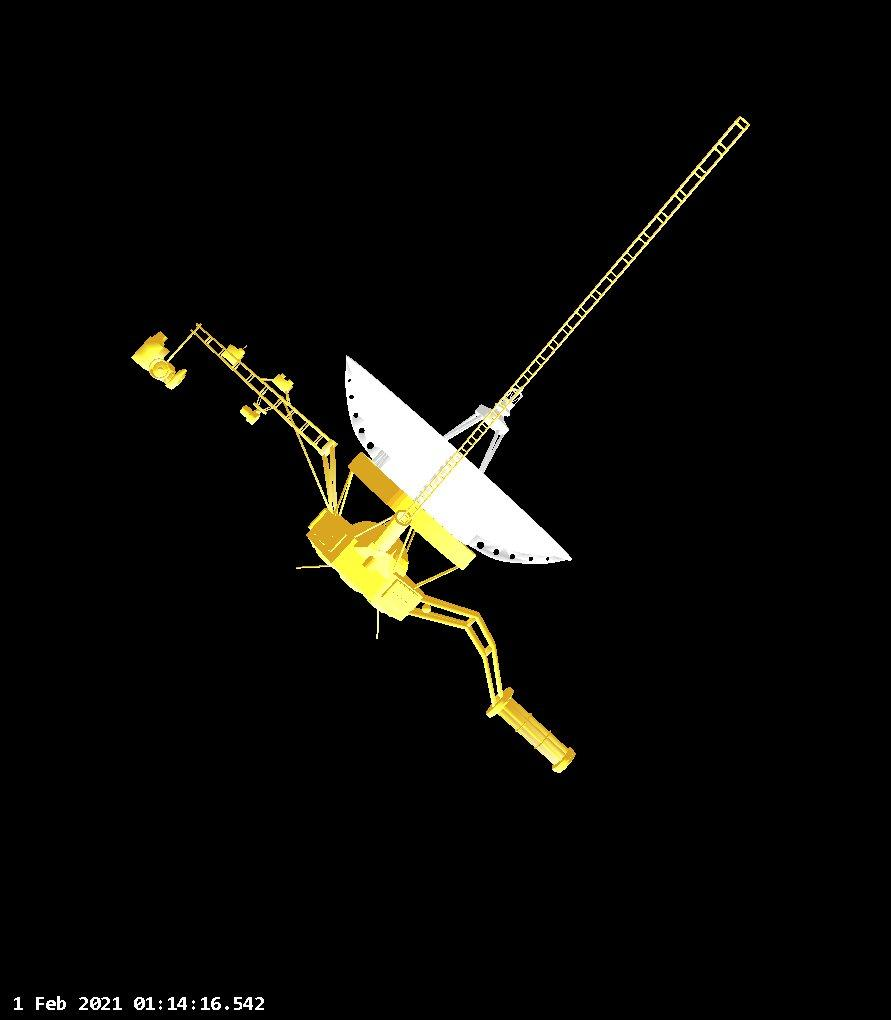antenna: (388, 114, 755, 528), (343, 351, 578, 567), (372, 600, 385, 641), (294, 561, 345, 571)
body: (305, 503, 426, 626)
